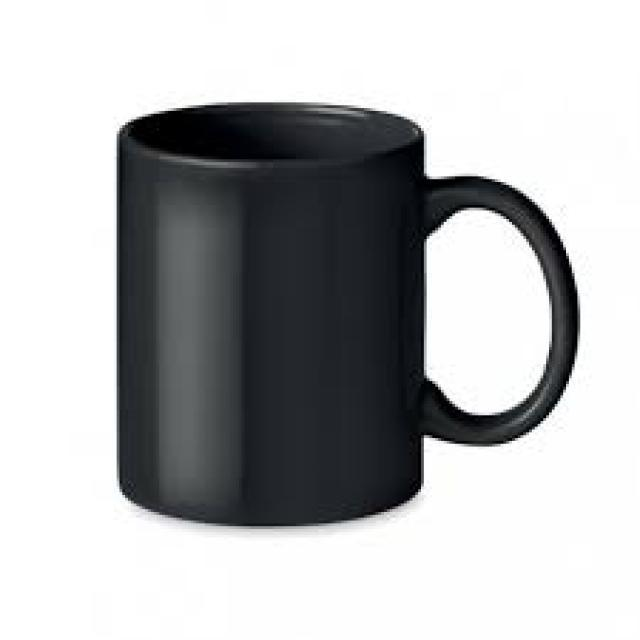taza: (110, 78, 596, 541)
